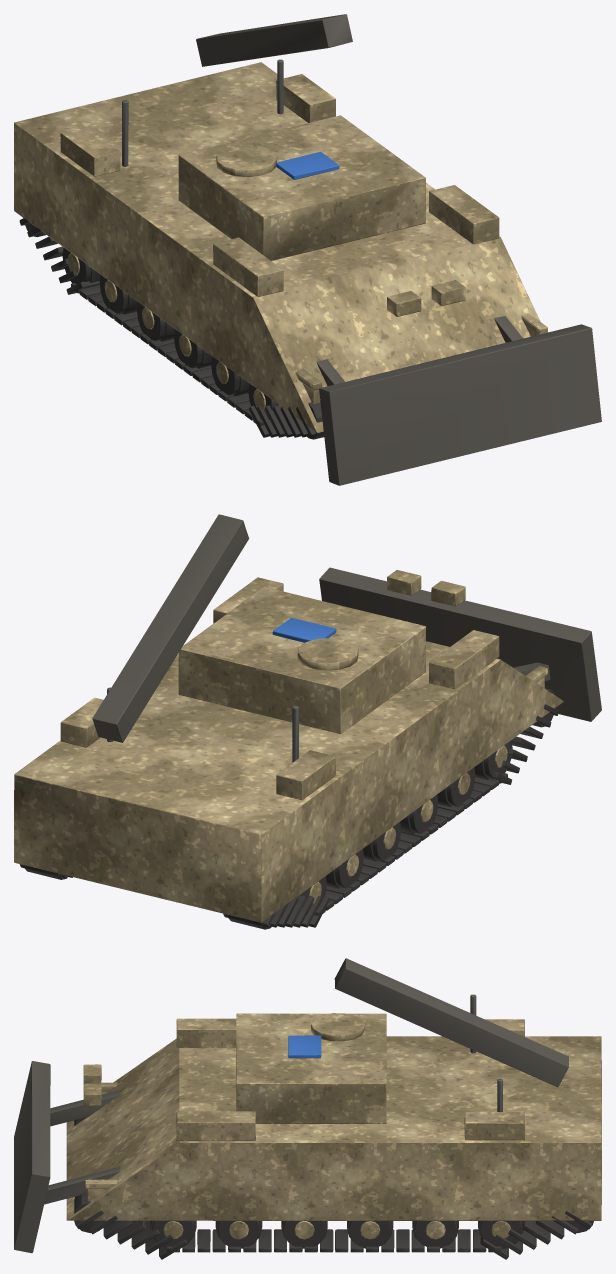
File: eng_e4_us_engineer_LOD1.glb
The picture shows the model from 3 angles, top to bottom: view 1: azimuth 30°, elevation 25°; view 2: azimuth 150°, elevation 25°; view 3: azimuth 270°, elevation 25°; orthographic projection. The views are drawn at different scales.
Visible parts, largest first — view 1: eng_e4_us_engineer_LOD1_body, eng_e4_us_engineer_LOD1_deck, eng_e4_us_engineer_LOD1_track, eng_e4_us_engineer_LOD1_team, eng_e4_us_engineer_LOD1_gun; view 2: eng_e4_us_engineer_LOD1_body, eng_e4_us_engineer_LOD1_deck, eng_e4_us_engineer_LOD1_track, eng_e4_us_engineer_LOD1_team; view 3: eng_e4_us_engineer_LOD1_body, eng_e4_us_engineer_LOD1_deck, eng_e4_us_engineer_LOD1_track, eng_e4_us_engineer_LOD1_team.
Boxes of the visible parts, x1,y1,x2,y2 form: eng_e4_us_engineer_LOD1_body: (14, 62, 547, 432); eng_e4_us_engineer_LOD1_deck: (196, 14, 601, 485); eng_e4_us_engineer_LOD1_track: (19, 218, 324, 439); eng_e4_us_engineer_LOD1_team: (276, 152, 339, 179); eng_e4_us_engineer_LOD1_gun: (122, 59, 283, 166); eng_e4_us_engineer_LOD1_body: (14, 570, 563, 922); eng_e4_us_engineer_LOD1_deck: (92, 514, 601, 742); eng_e4_us_engineer_LOD1_track: (19, 688, 558, 929); eng_e4_us_engineer_LOD1_team: (272, 617, 336, 642); eng_e4_us_engineer_LOD1_body: (66, 1013, 601, 1239); eng_e4_us_engineer_LOD1_deck: (14, 958, 568, 1253); eng_e4_us_engineer_LOD1_track: (74, 1117, 593, 1259); eng_e4_us_engineer_LOD1_team: (288, 1035, 321, 1058).
Size of the model in its own units: 3.55 by 3.89 by 7.79.
5 materials, 1 textured.
